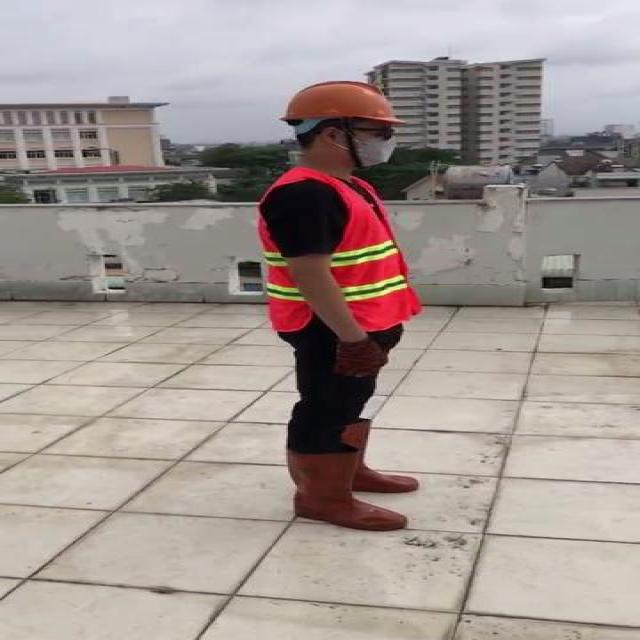boots: (283, 451, 405, 530), (313, 414, 419, 498)
face_mask: (334, 121, 404, 166)
glasses: (348, 122, 402, 144)
hand_glove: (334, 340, 390, 377)
head_helmet: (281, 78, 403, 128)
person: (253, 77, 435, 540)
vest: (260, 169, 418, 334)
